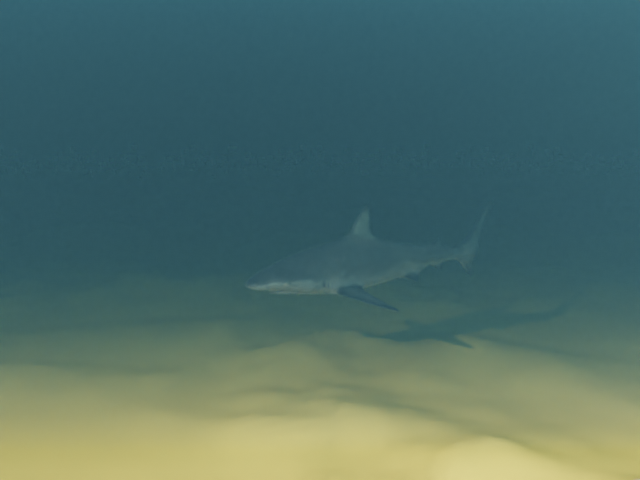Carribean Shark.001: (244, 199, 493, 311)
